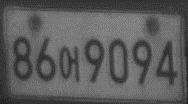0: (107, 38, 128, 85)
4: (154, 40, 179, 87)
6: (36, 36, 56, 83)
8: (13, 36, 33, 82)
9: (130, 38, 153, 87), (83, 38, 106, 84)
어: (58, 44, 81, 84)
